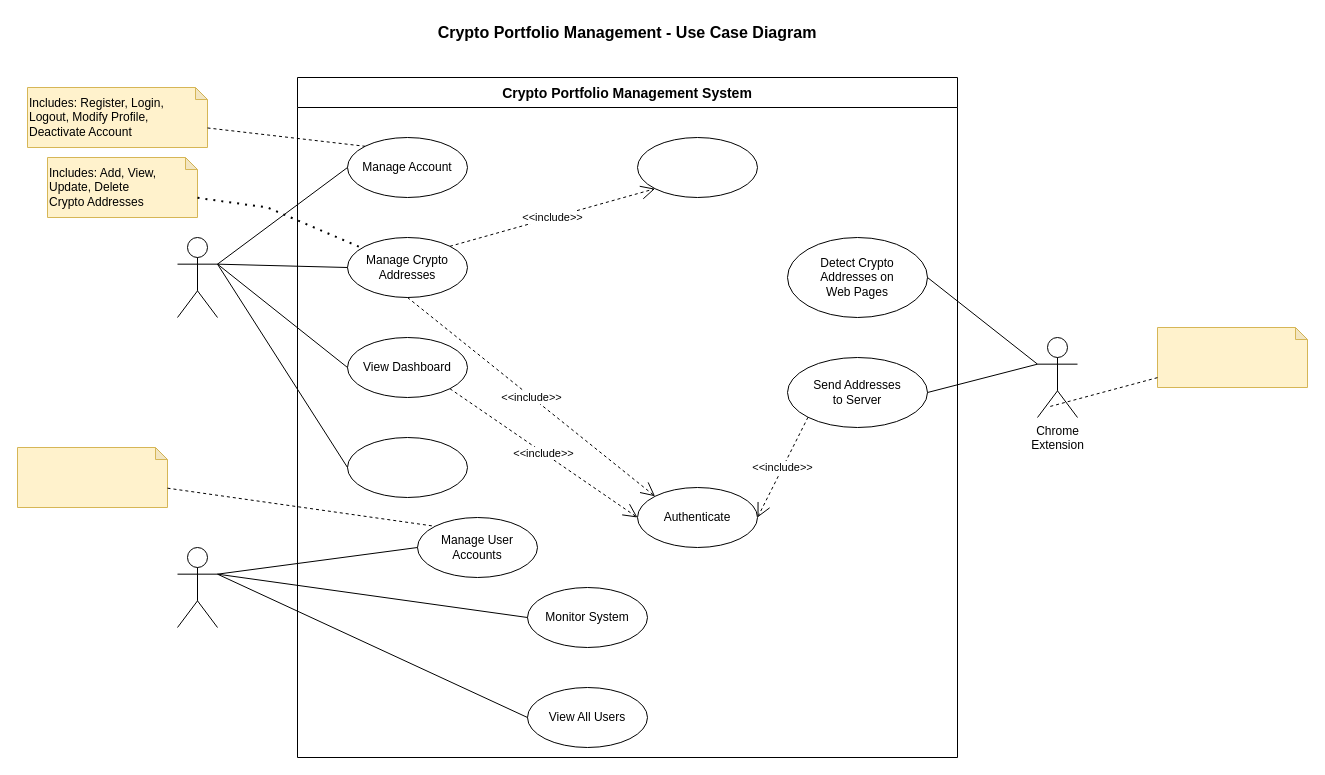
Image size: 1325x775. Some labels were removed from this diagram. Each missing label, with the centre of its shape:
"Admin" goes at pixel 197 587.
"Includes: Activate, Deactivate, Delete User Accounts" goes at pixel 92 477.
"Limited to Google Chrome Manifest V3" goes at pixel 1232 357.
"Synchronize with Extension" goes at pixel 407 467.
"User (Client)" goes at pixel 197 277.
"Validate Address Format" goes at pixel 697 167.
